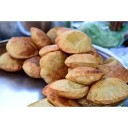poori: (88, 77, 128, 104), (56, 30, 93, 55), (47, 78, 89, 99), (64, 65, 104, 85), (7, 34, 38, 59), (41, 50, 66, 78), (65, 50, 100, 68), (105, 62, 128, 84), (30, 25, 51, 47)
